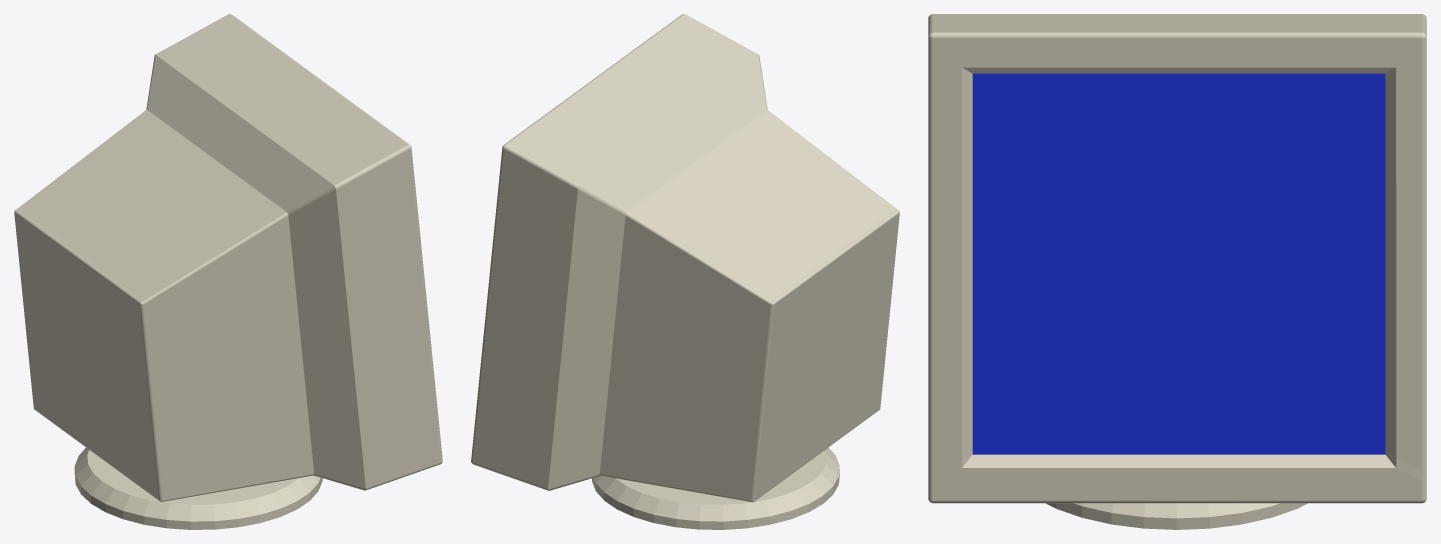
Rendered from Assets.fbx.
3 renders of one model, left to right at view 1: azimuth 30°, elevation 25°; view 2: azimuth 150°, elevation 25°; view 3: azimuth 270°, elevation 25°, orthographic. The views are drawn at different scales.
Visible parts, largest first — view 1: Monitor, MonBase; view 2: Monitor, MonBase; view 3: Monitor, MonBase.
Boxes of the visible parts, bbox=[...] form: Monitor: bbox=[14, 14, 442, 501]; MonBase: bbox=[74, 447, 322, 529]; Monitor: bbox=[471, 14, 899, 502]; MonBase: bbox=[592, 447, 839, 529]; Monitor: bbox=[928, 14, 1426, 503]; MonBase: bbox=[1046, 503, 1307, 529].
Bounding box in the file's own units: 176 × 224 × 200.
